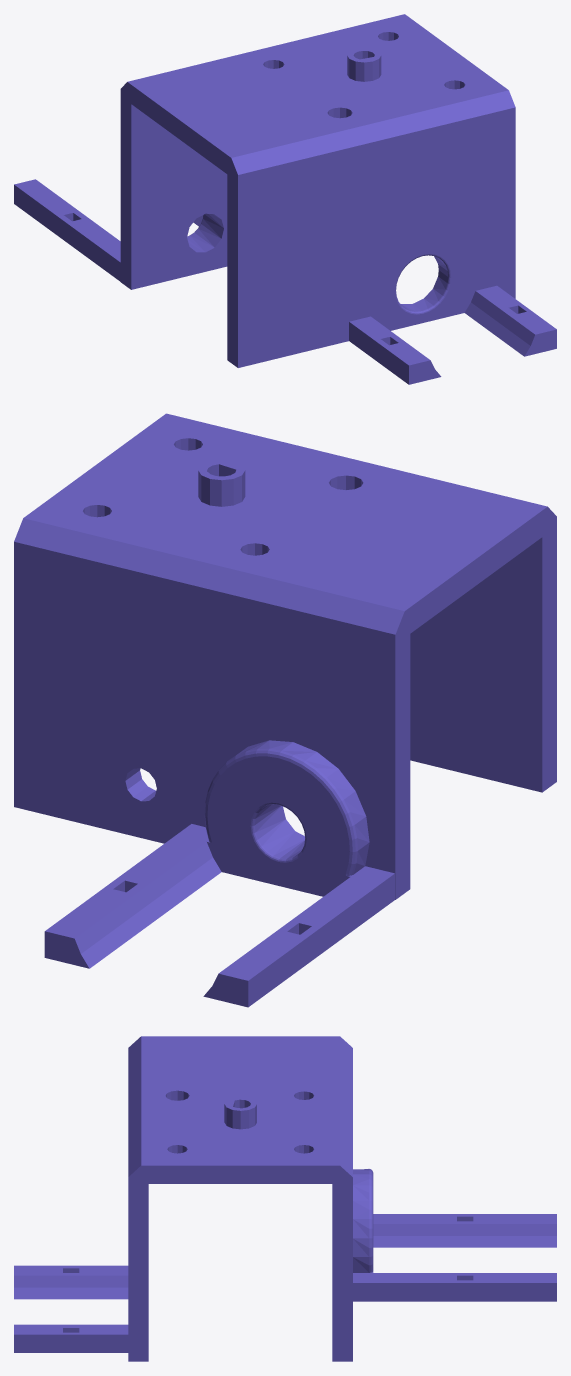
File: wheel_housing_structure_v1.dae
3 renders of one model, top to bottom at view 1: azimuth 30°, elevation 25°; view 2: azimuth 150°, elevation 25°; view 3: azimuth 270°, elevation 25°, orthographic. The views are drawn at different scales.
Visible parts, largest first — view 1: wheel_house_structure; view 2: wheel_house_structure; view 3: wheel_house_structure.
Part boxes in pixels (<box>): wheel_house_structure: <box>14,14,556,384</box>; wheel_house_structure: <box>14,413,556,1007</box>; wheel_house_structure: <box>14,1036,556,1361</box>.
Bounding box in the file's own units: 0.0952 × 0.1689 × 0.0737.
